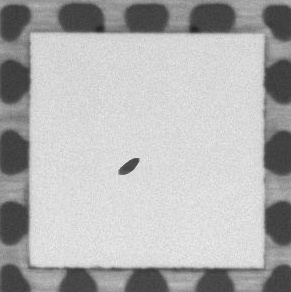DIE_INK: (115, 156, 139, 175)
